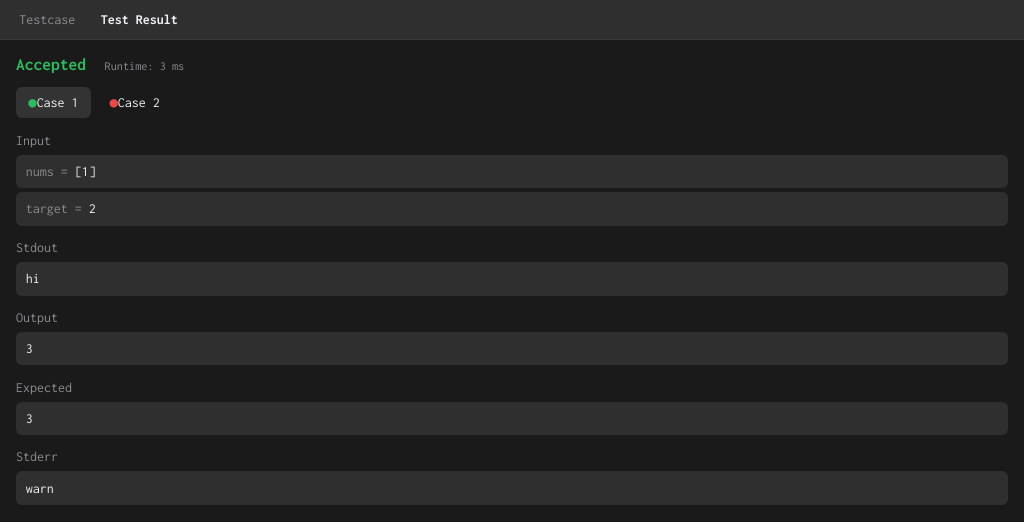
Scenario: Console › shows results per case
This screenshot has width=1024, height=522.
Expected: the heading "Accepted Runtime: 3 ms" is shown, [16,55,184,73]
Expected: the text "Runtime: 3 ms" is shown, [104,59,184,72]
Click the button "● Case 2".
click(135, 103)  # box [97,87,172,118]
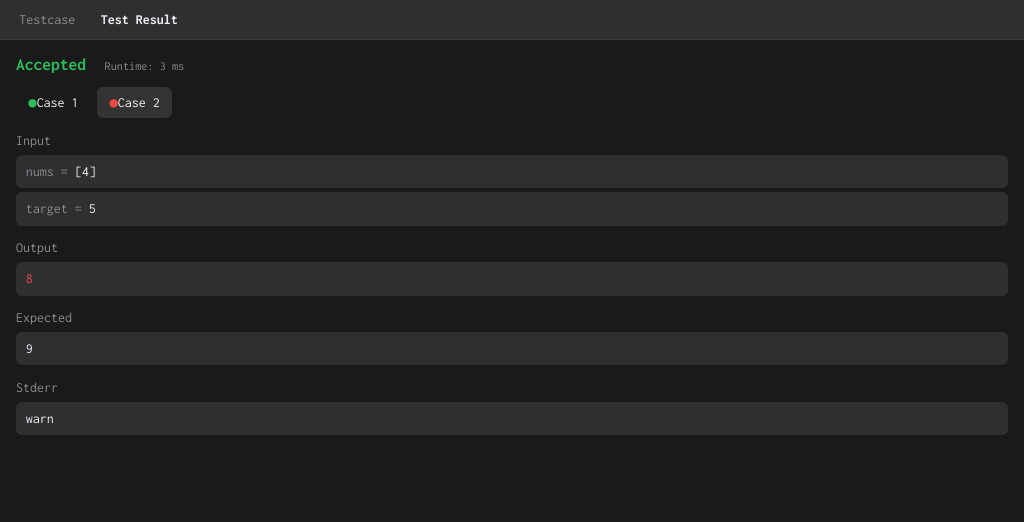
Expected: the text "8" is shown, [16,262,1008,296]
Expected: the text "9" is shown, [16,332,1008,365]
